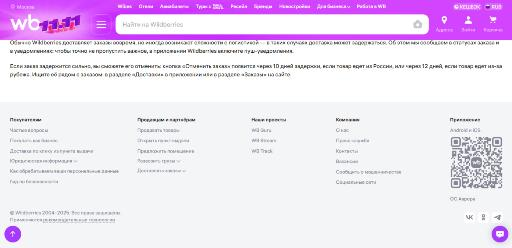wildberries: (2, 0, 512, 248)
